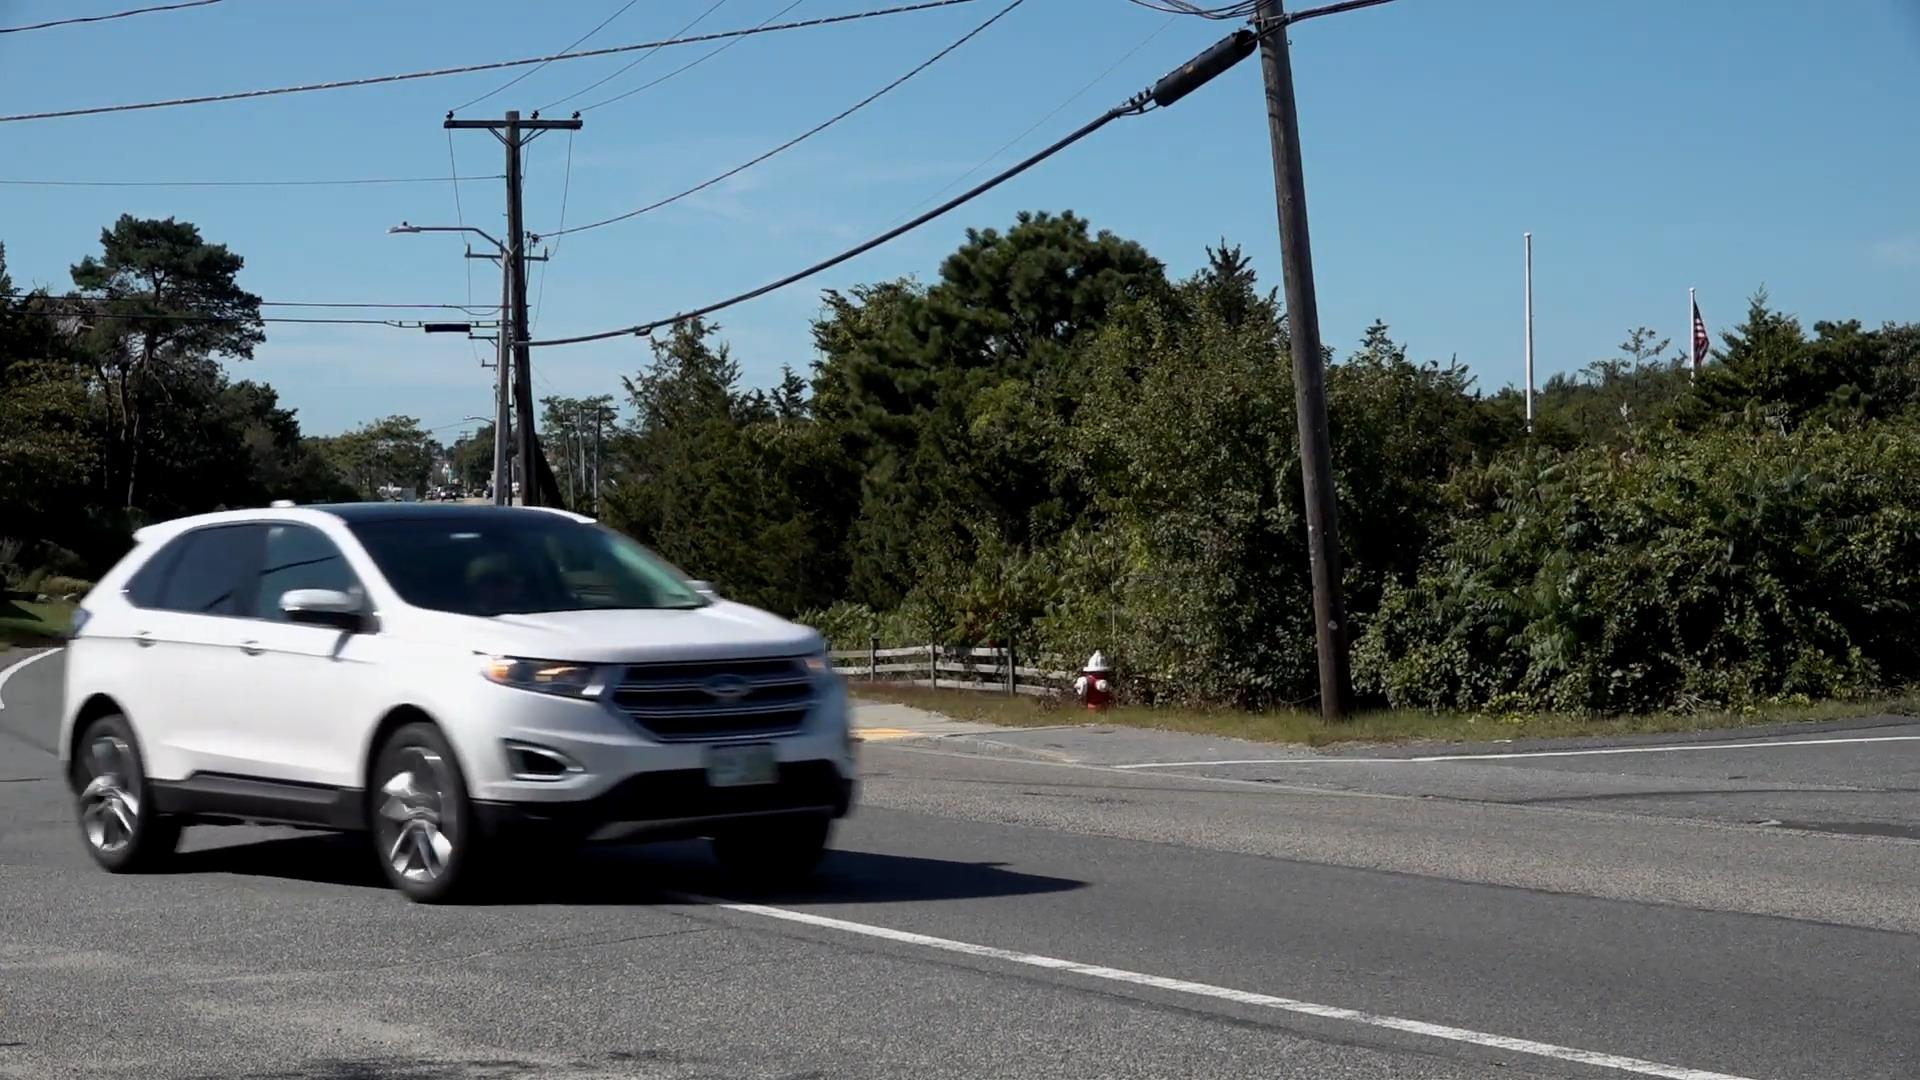suv: (63, 497, 860, 900)
